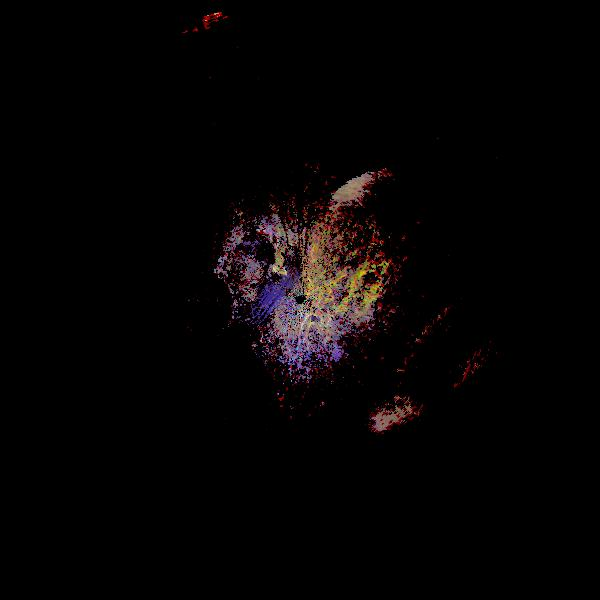roost: (280, 127, 520, 367), (320, 368, 518, 566)
